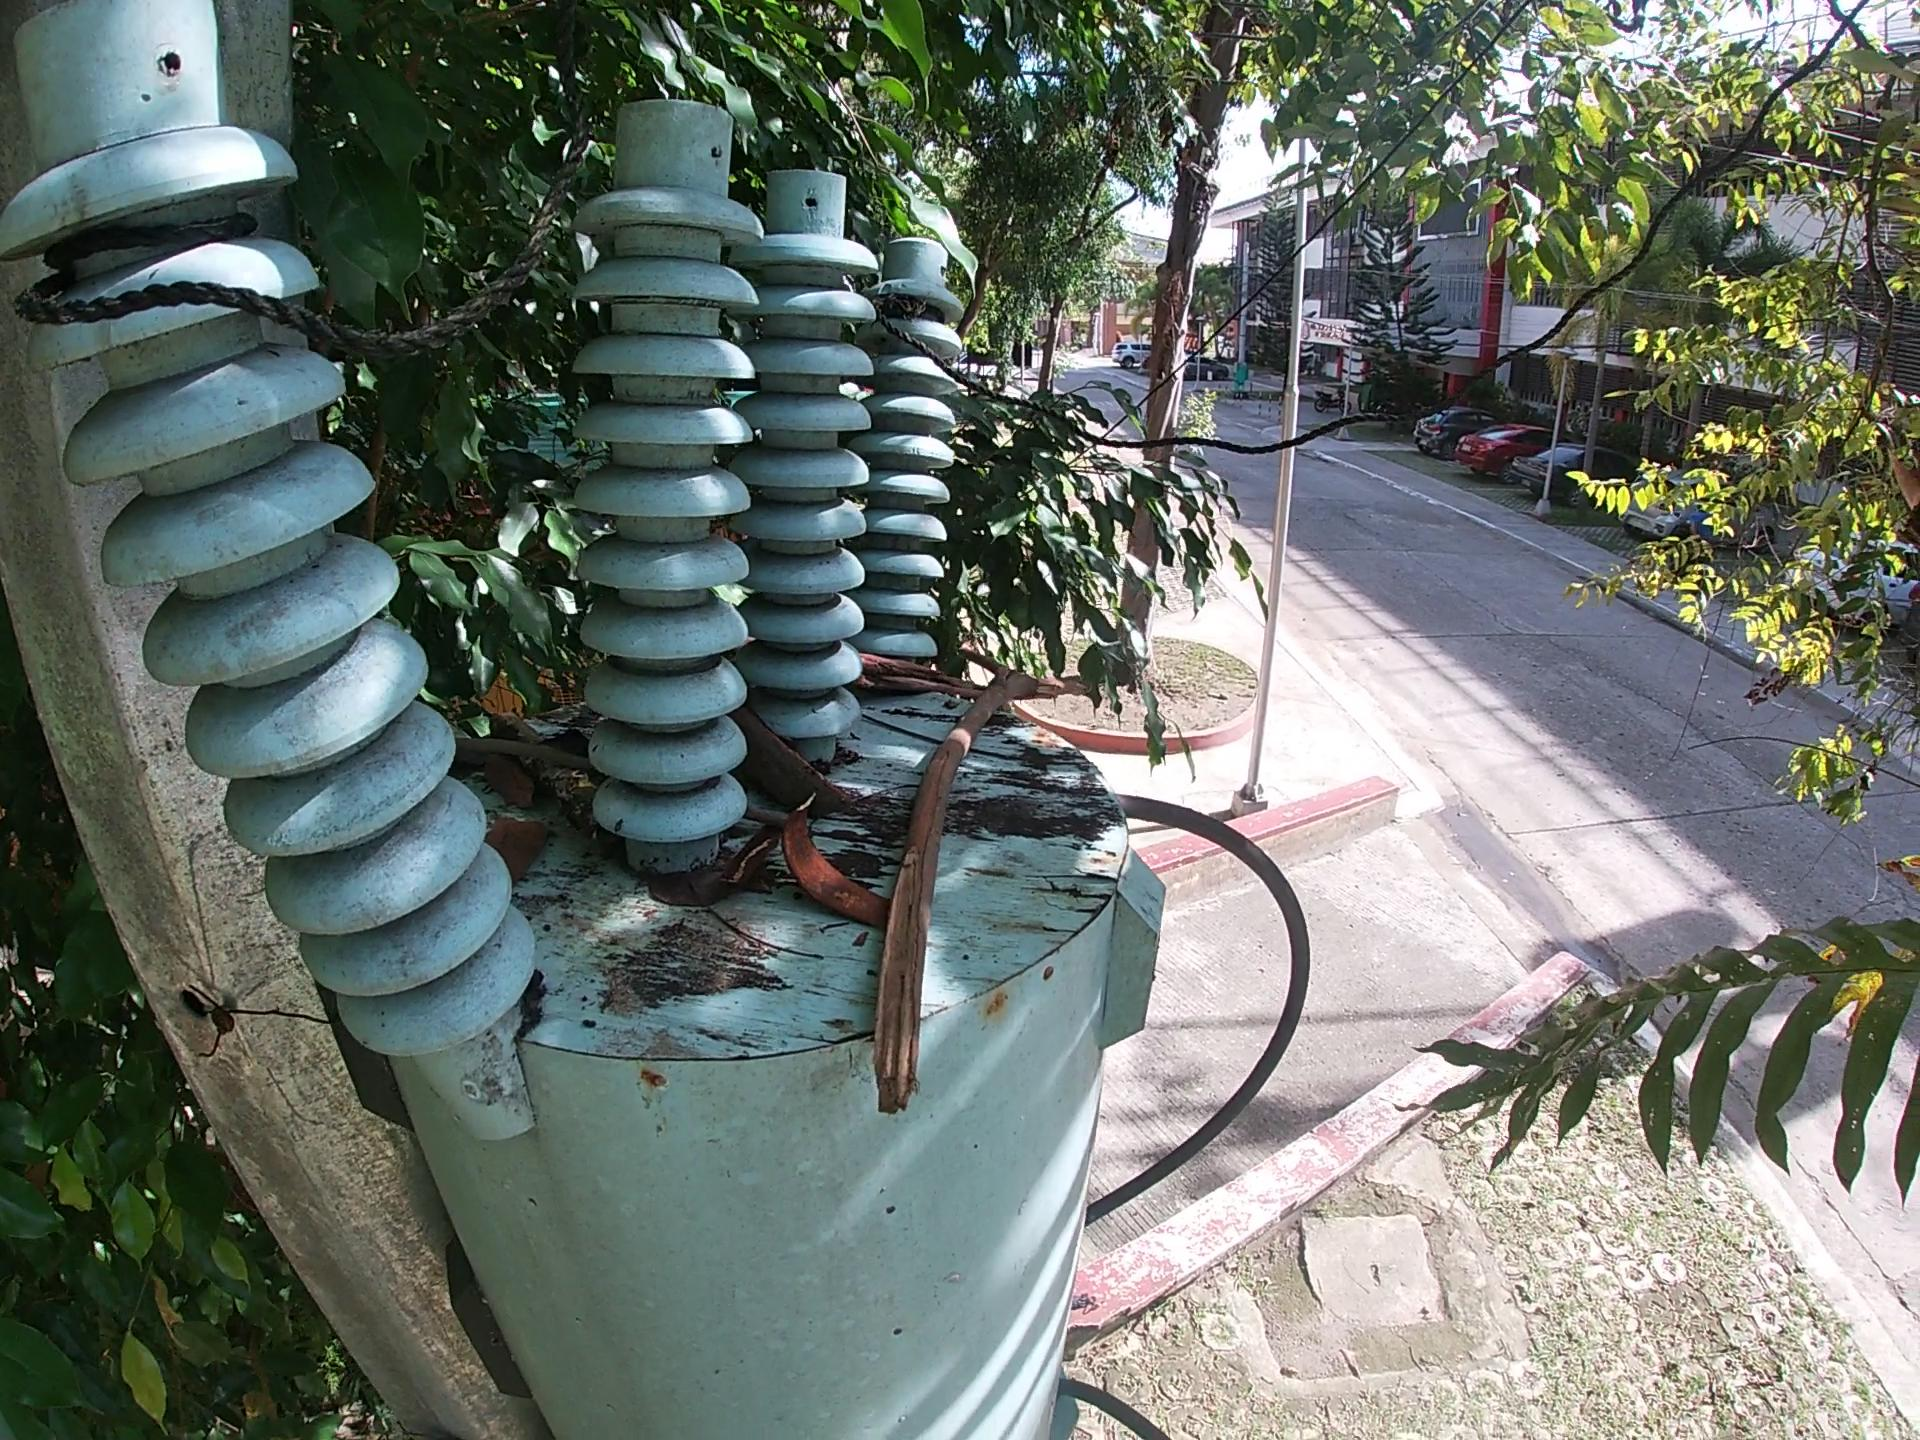leaf: (478, 809, 556, 883), (643, 862, 732, 912), (482, 747, 537, 811)
mahogany fruit: (783, 785, 897, 930), (726, 703, 862, 815), (714, 817, 786, 891)
tree branch: (868, 641, 1093, 1122), (485, 705, 621, 853), (845, 650, 989, 703), (449, 735, 600, 774), (739, 803, 791, 829)
